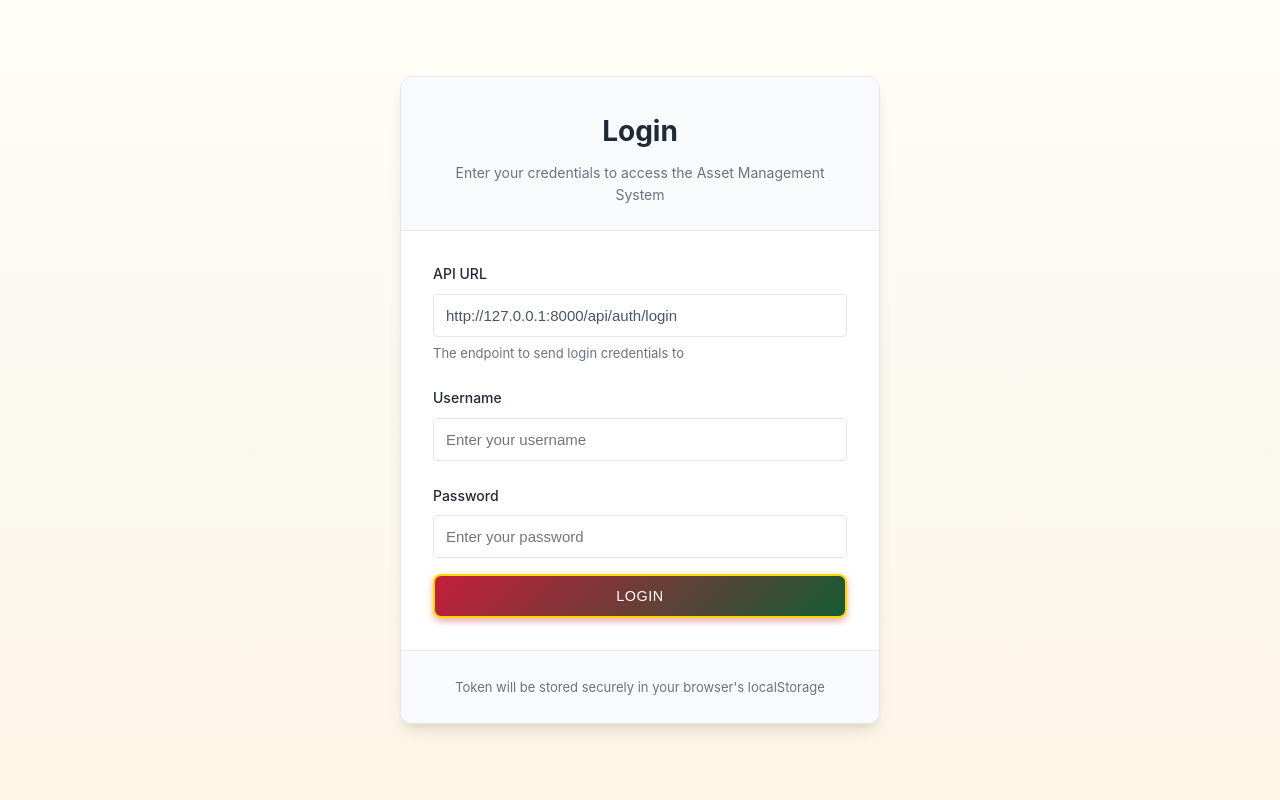
Test: LoginView.vue › shows error when API URL is empty
The width and height of the screenshot is (1280, 800).
Type "testuser" into the field with id "username" at (640, 439), box 433,418 -> 847,461
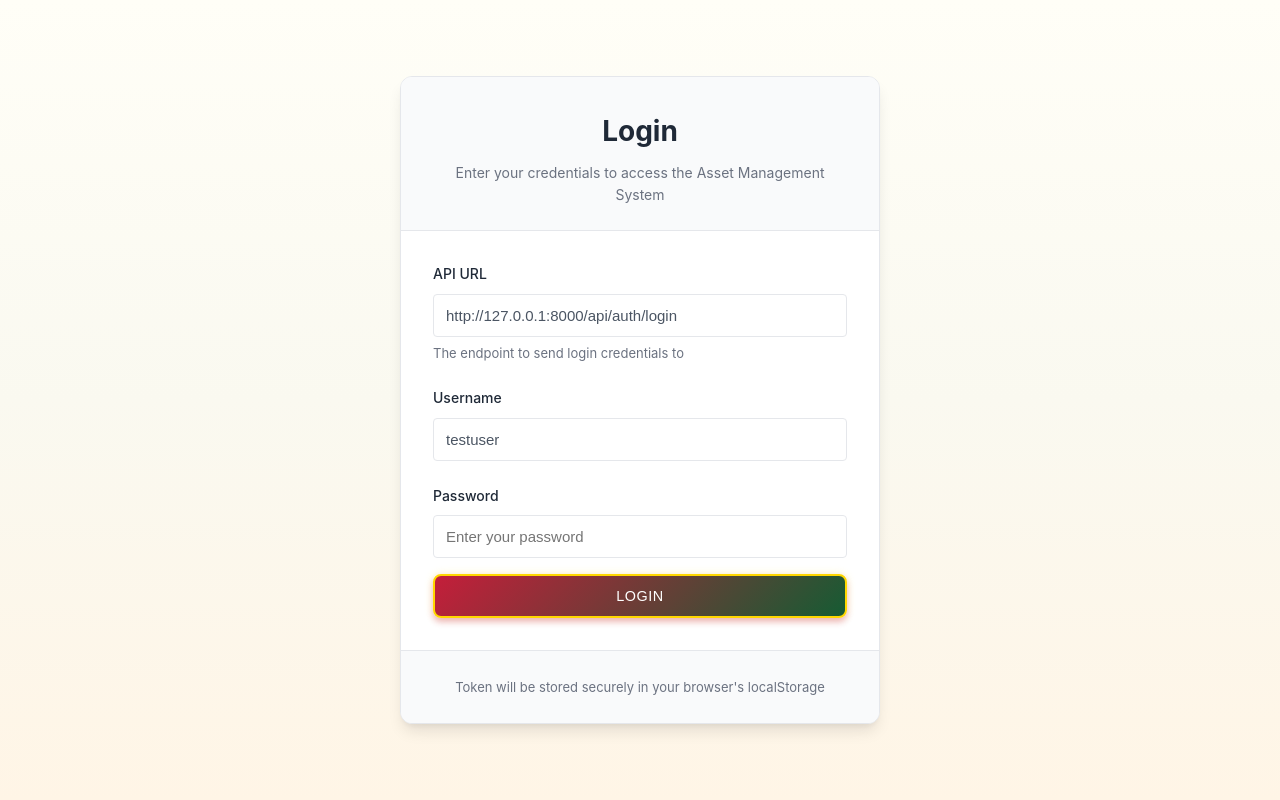
Type "password123" into the password field labelled "Password" at (640, 537), box 433,515 -> 847,558
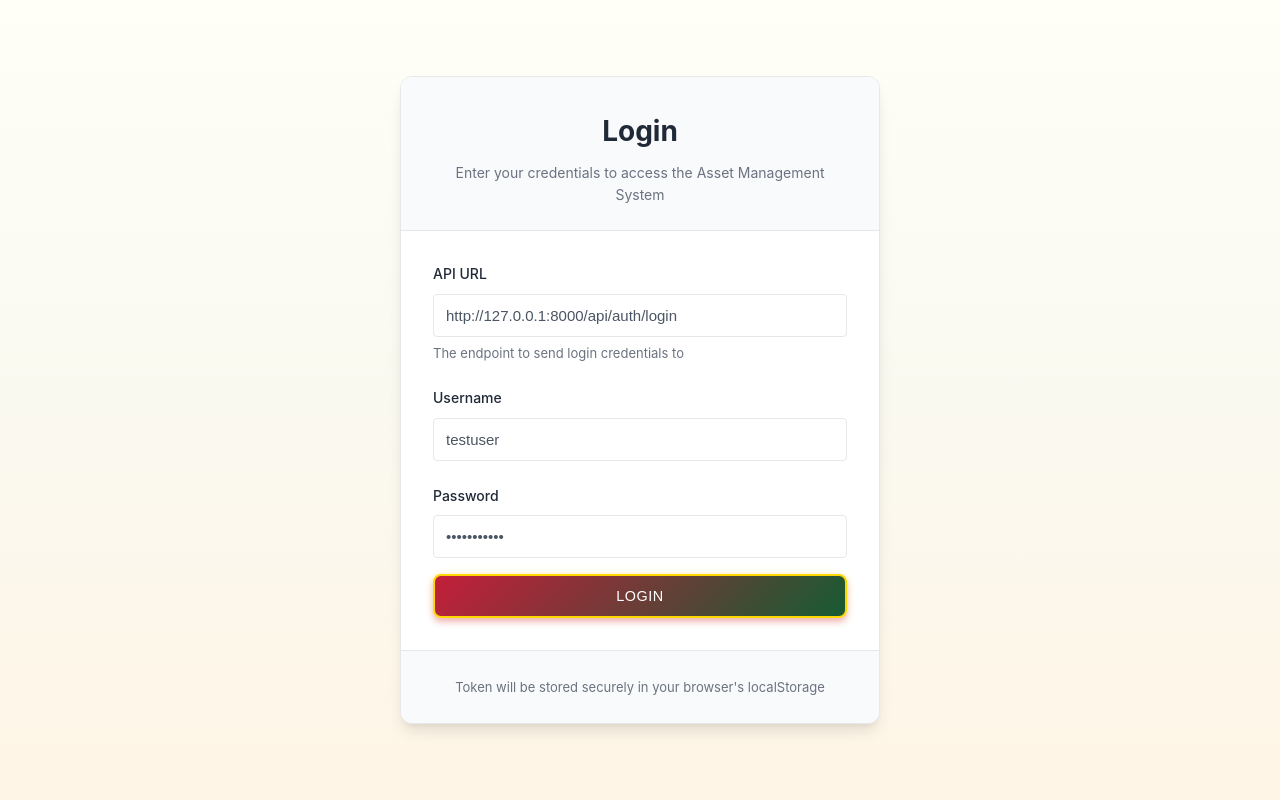
Clear the field with id "api-url" at (640, 315), box 433,294 -> 847,337
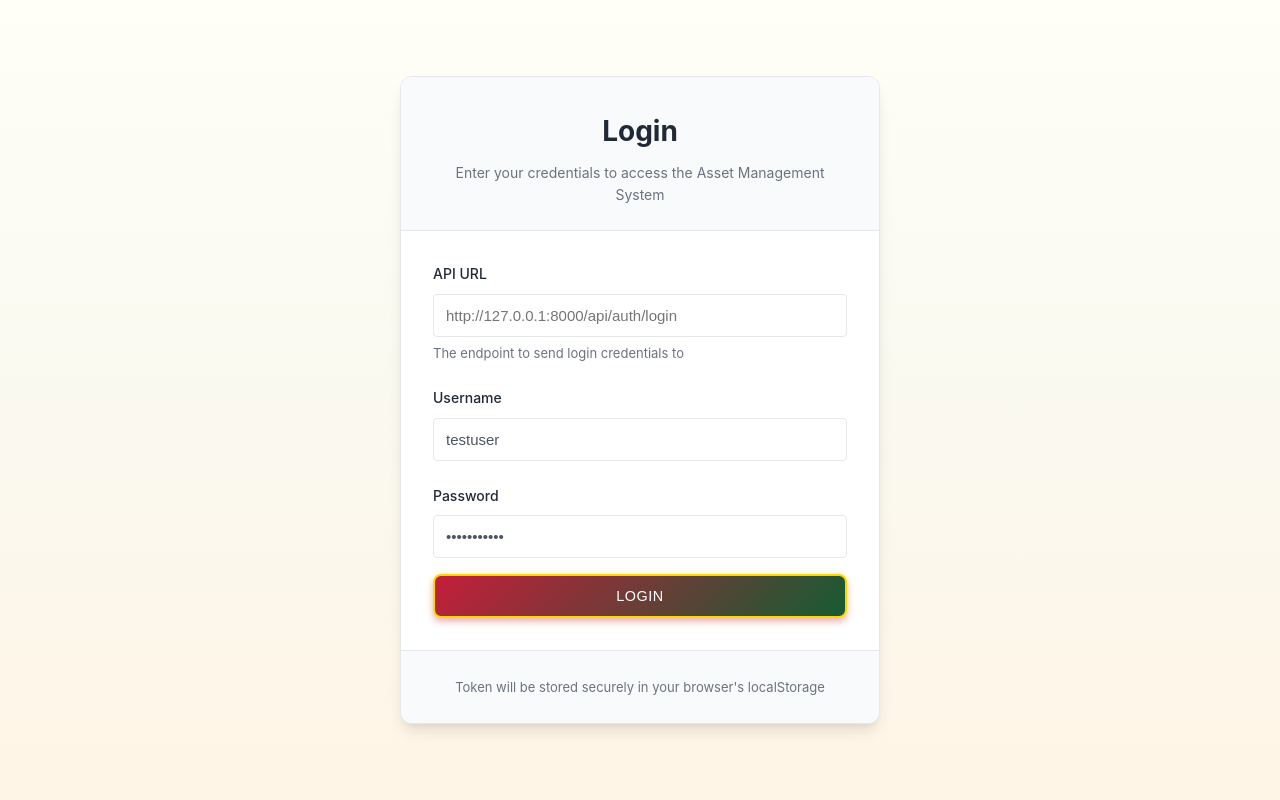
Submit the form with class "login-form", box 401,231 -> 879,650
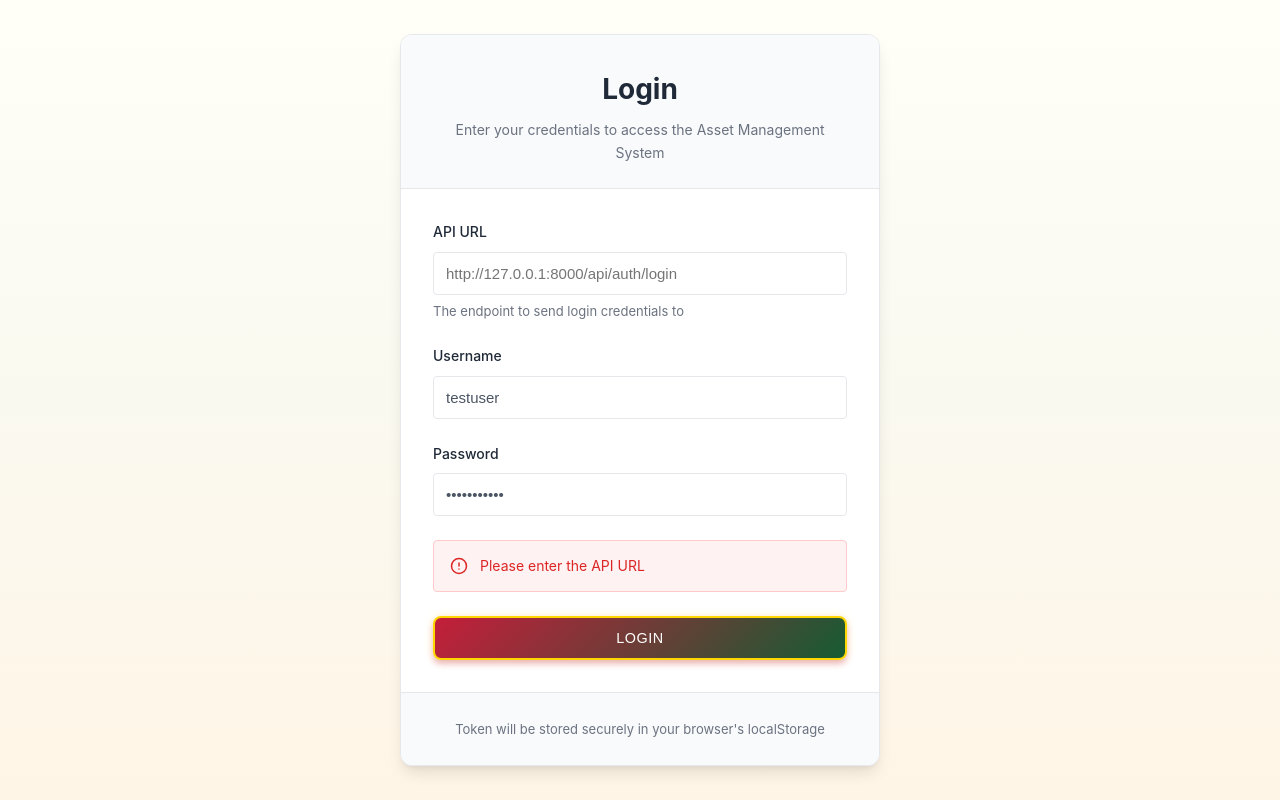
Result: the text "Please enter the API URL" is shown at 433,540 -> 847,592
